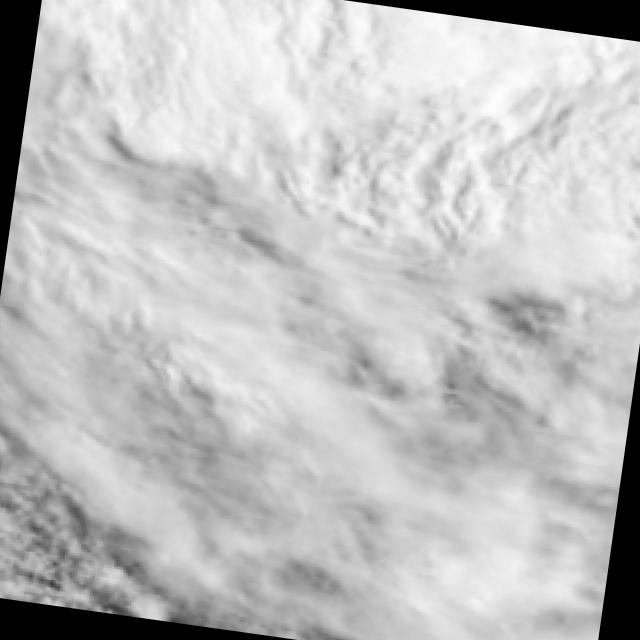CB: (159, 0, 566, 142)
